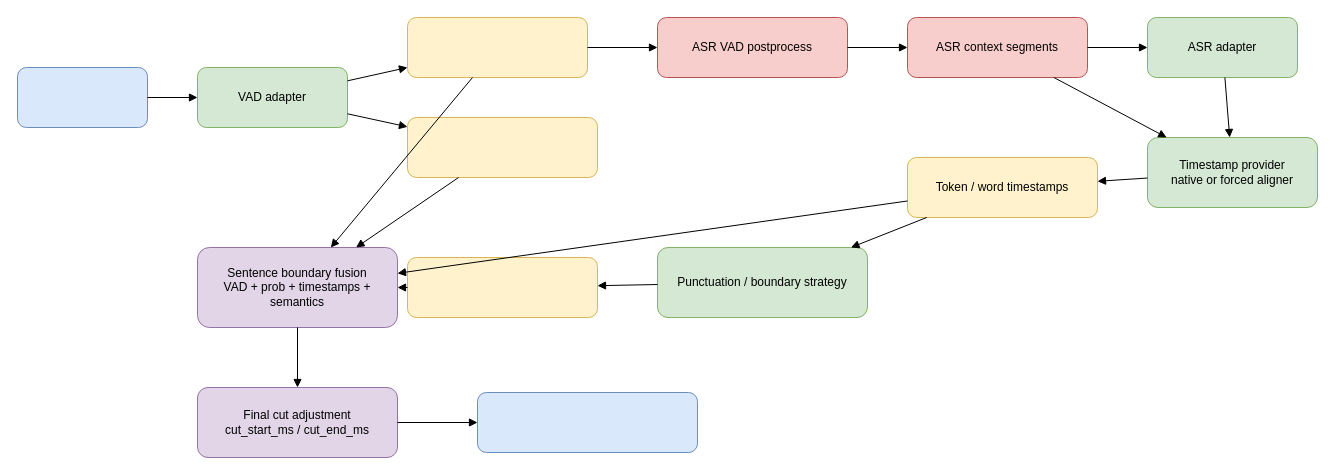
Image size: 1335x475. Some labels were removed from this diagram. The shapes that lost their labels are listed below. From the top down, each one's box as (x1, y1, x2, y2) in pixels, then its label:
(406, 16, 588, 78): raw_vad_segments_ms
(16, 66, 148, 128): Input wav
(406, 116, 598, 178): vad_frame_speech_probs
(406, 256, 598, 318): Initial sentence candidates
(476, 392, 698, 452): JSON / CSV / SRT / TextGrid
